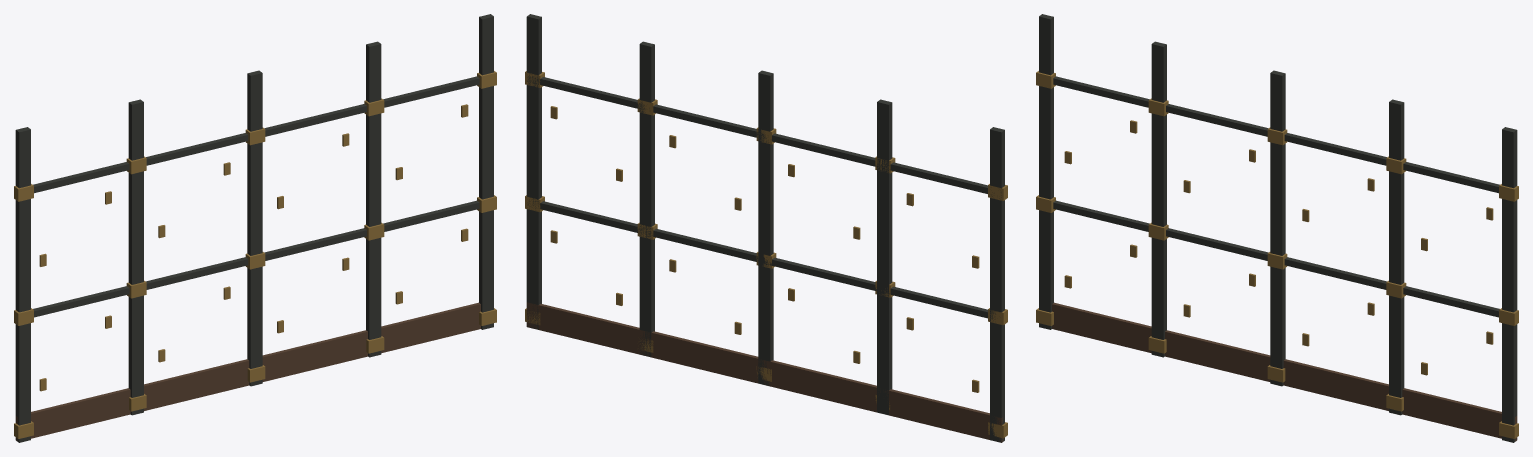
File: retaining_a.glb
3 views of the same model, side by side, from view 1: azimuth 30°, elevation 25°; view 2: azimuth 150°, elevation 25°; view 3: azimuth 330°, elevation 25° (orthographic).
Parts seen in each view (by area): view 1: retaining_a; view 2: retaining_a; view 3: retaining_a.
Boxes of the visible parts, x1,y1,x2,y2 form: retaining_a: [14, 14, 496, 442]; retaining_a: [525, 14, 1007, 442]; retaining_a: [1036, 14, 1518, 442].
Size of the model in its own units: 8.06 by 5 by 0.13.
